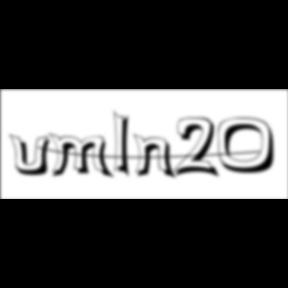2: (173, 117, 223, 181)
O: (218, 117, 282, 176)
l: (114, 108, 138, 182)
m: (49, 132, 117, 181)
n: (134, 132, 180, 181)
u: (9, 132, 57, 178)
